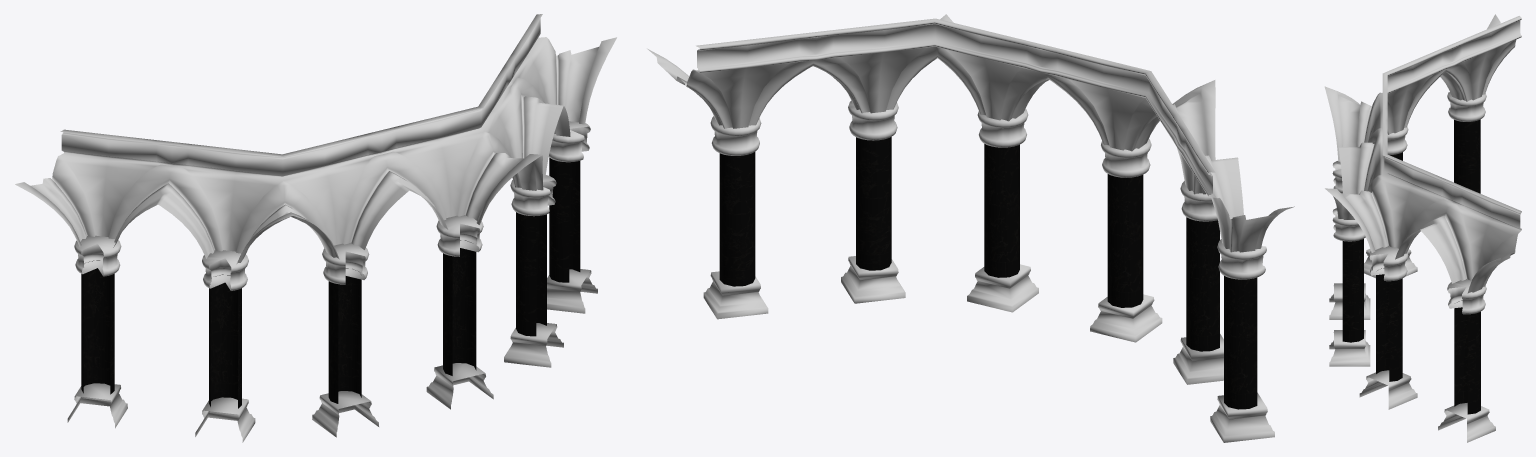
File: SM_Column_Dome.FBX
3 views of the same model, side by side, from view 1: azimuth 30°, elevation 25°; view 2: azimuth 150°, elevation 25°; view 3: azimuth 270°, elevation 25° (orthographic). The views are drawn at different scales.
Parts seen in each view (by area): view 1: SM_Column_Dome; view 2: SM_Column_Dome; view 3: SM_Column_Dome.
Part boxes in pixels (<box>): SM_Column_Dome: <box>15,14,616,442</box>; SM_Column_Dome: <box>647,14,1294,442</box>; SM_Column_Dome: <box>1324,14,1521,442</box>.
Size of what is drawn, in the model's own units: 2626 by 887 by 1093.
